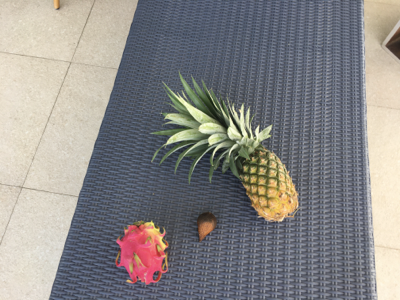dragon fruit: (114, 222, 170, 286)
pineapple: (151, 73, 299, 224)
snake fruit: (197, 213, 217, 242)
